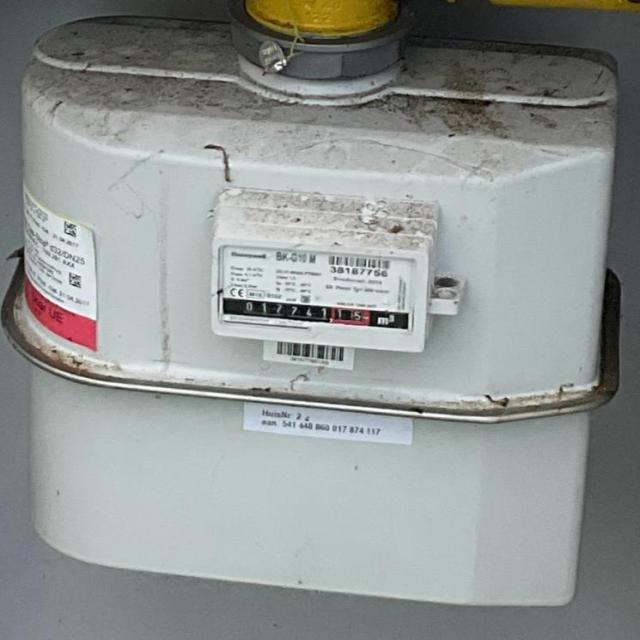gaz_meter: (214, 245, 414, 336)
indication: (223, 296, 371, 326)
